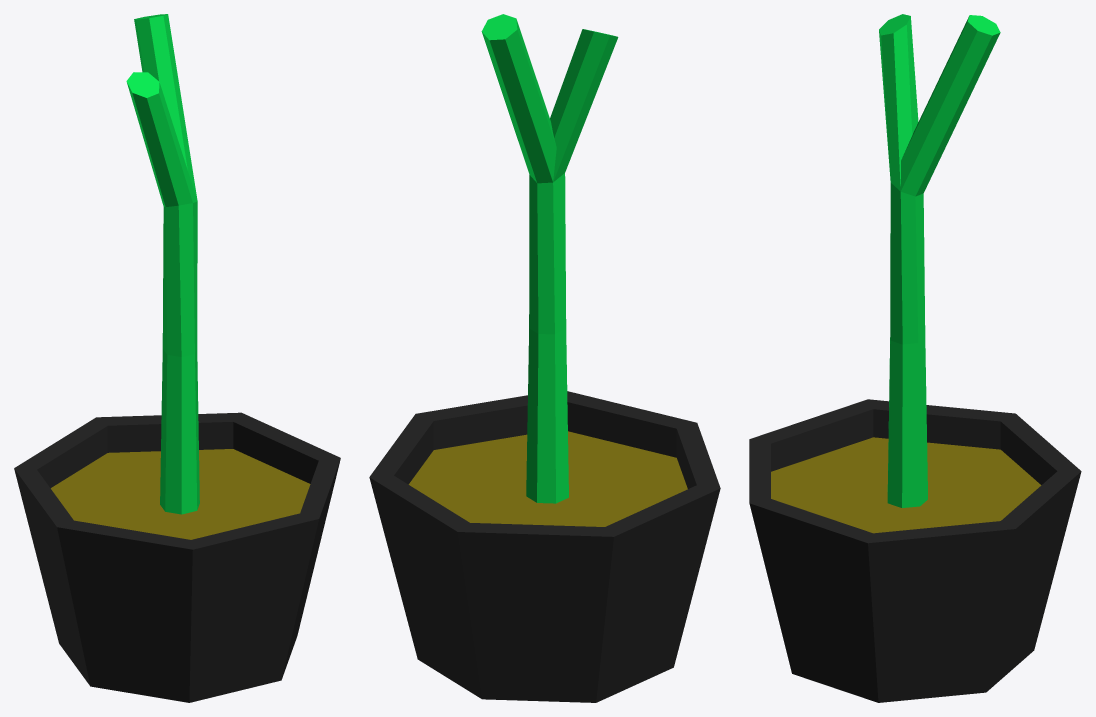
Rendered from bambuk.fbx.
3 renders of one model, left to right at view 1: azimuth 30°, elevation 25°; view 2: azimuth 150°, elevation 25°; view 3: azimuth 270°, elevation 25°, orthographic. The views are drawn at different scales.
Parts seen in each view (by area): view 1: Cylinder; view 2: Cylinder; view 3: Cylinder.
Boxes of the visible parts, box(x1,y1,x2,y2) form: Cylinder: box(14, 14, 340, 702); Cylinder: box(369, 14, 720, 702); Cylinder: box(749, 14, 1081, 702).
Size of the model in its own units: 195 by 401 by 190.
